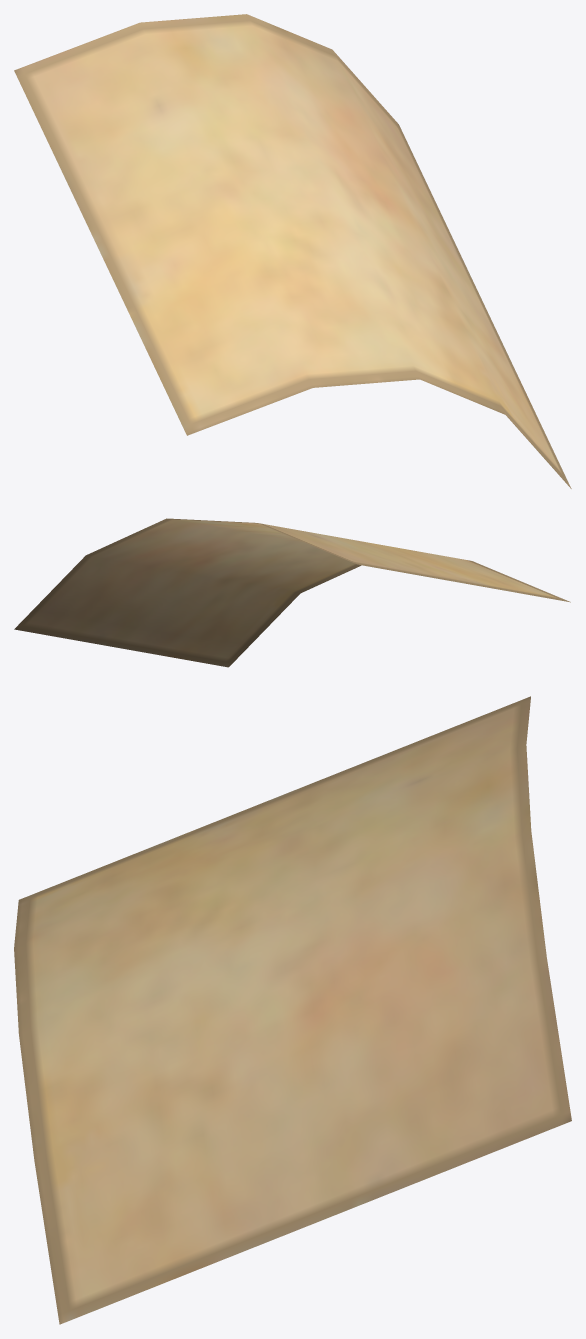
Rendered from wz_shuye_04.FBX.
3 views of the same model, one above another, from view 1: azimuth 30°, elevation 25°; view 2: azimuth 150°, elevation 25°; view 3: azimuth 270°, elevation 25° (orthographic). The views are drawn at different scales.
Visible parts, largest first — view 1: shuye_04; view 2: shuye_04; view 3: shuye_04.
Boxes of the visible parts, left/top/right/bottom form: shuye_04: left=14, top=14, right=571, bottom=488; shuye_04: left=14, top=518, right=570, bottom=667; shuye_04: left=14, top=696, right=571, bottom=1324.
Size of the model in its own units: 1.15 by 0.9344 by 1.06.
